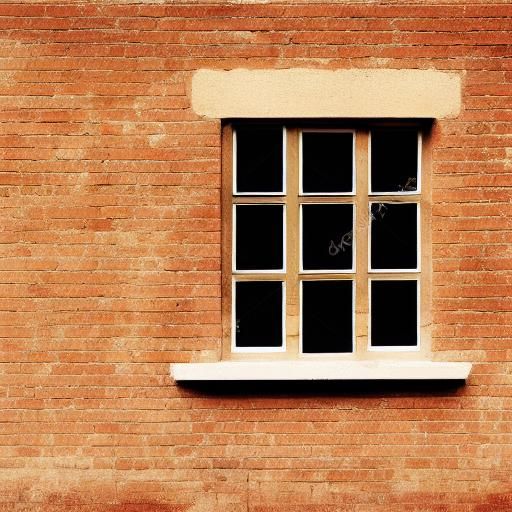Window: (169, 69, 474, 389)
